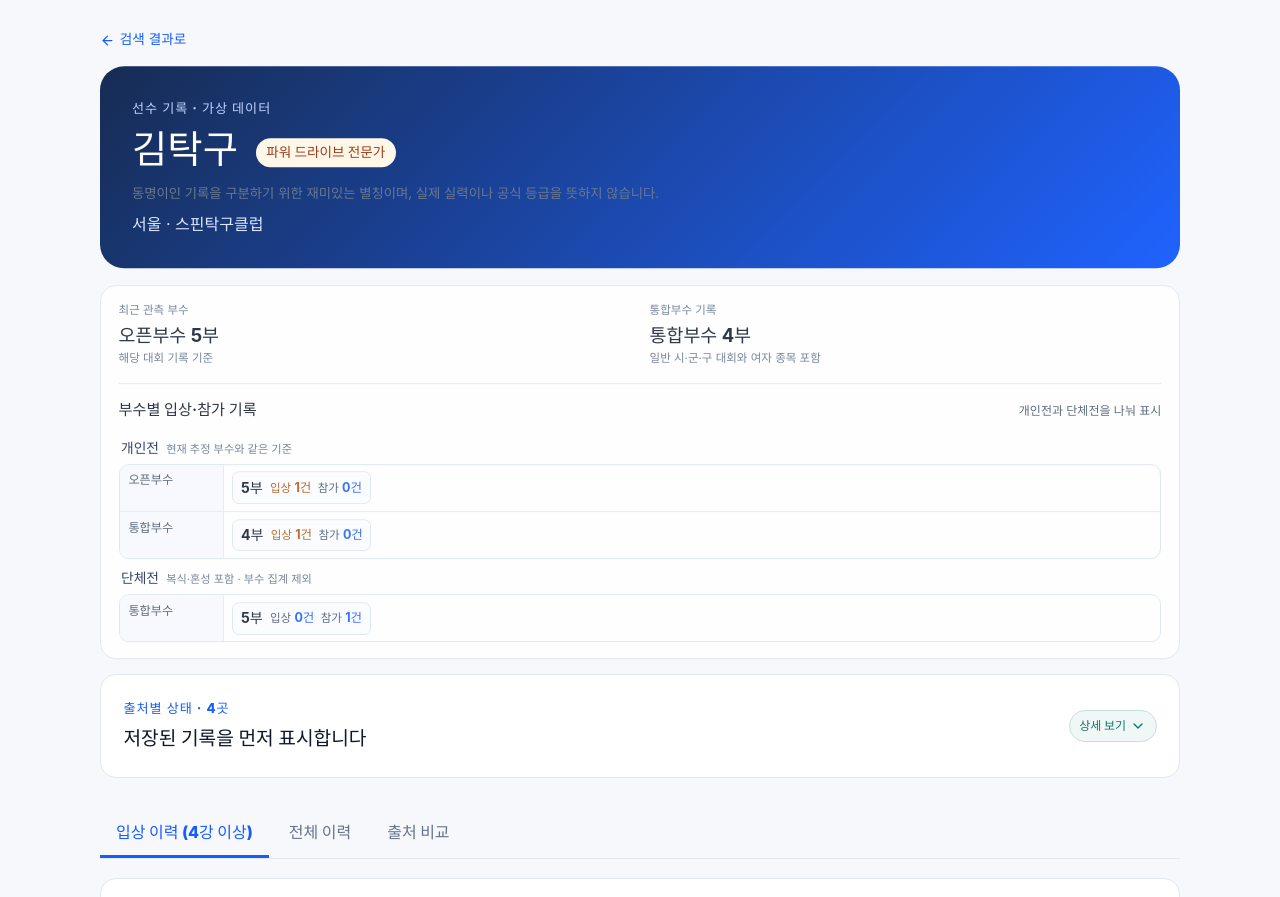
Test: PlayerDetailPage metadata › returns to every record when the division is cleared
Click the button with aria-label "개인전, 오픈부수 5부 입상 1건 참가 0건 결과 보기": (302,487) left=232, top=471, right=371, bottom=503
(page scrolled)
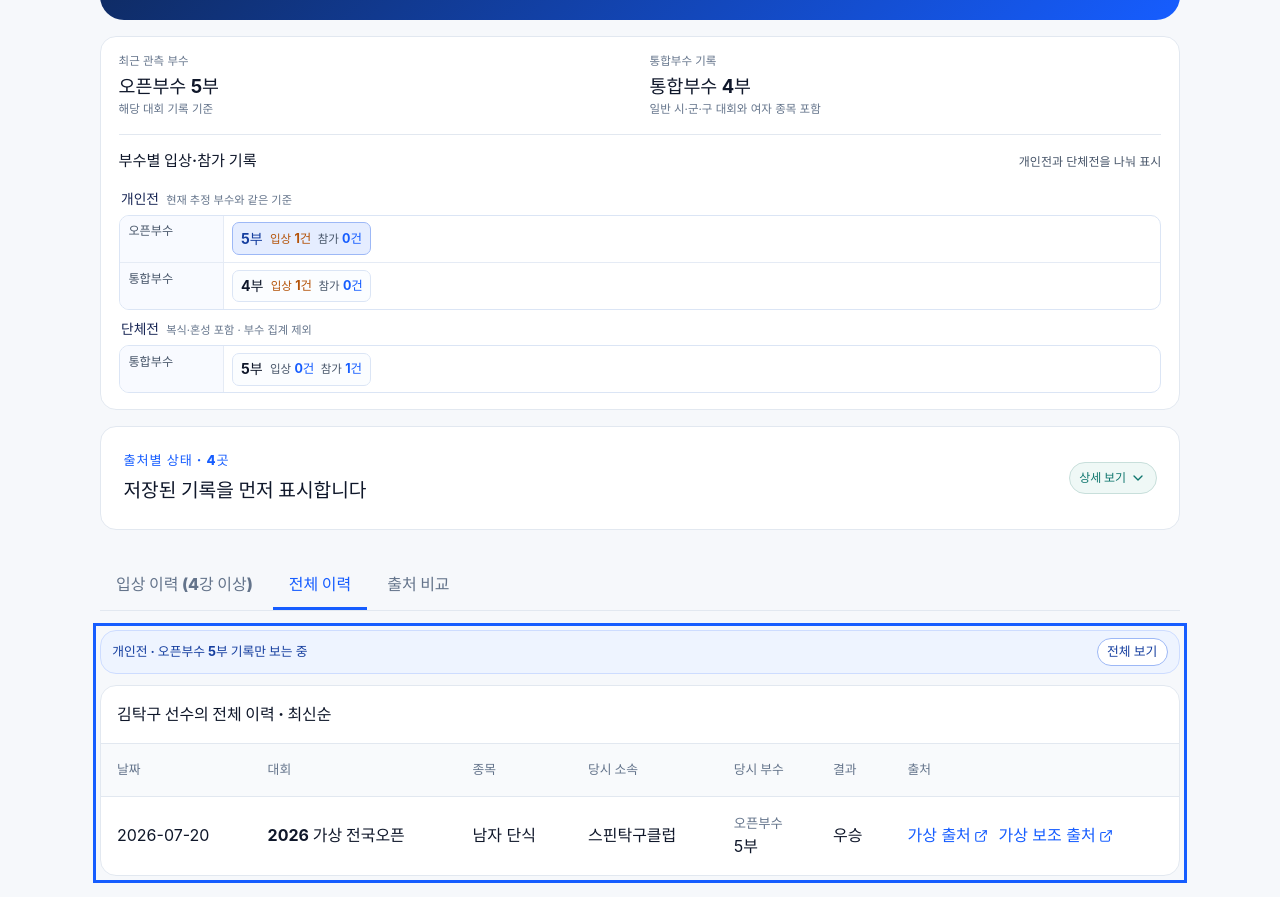
Click the button "전체 보기": (1132,652) left=1096, top=638, right=1168, bottom=666
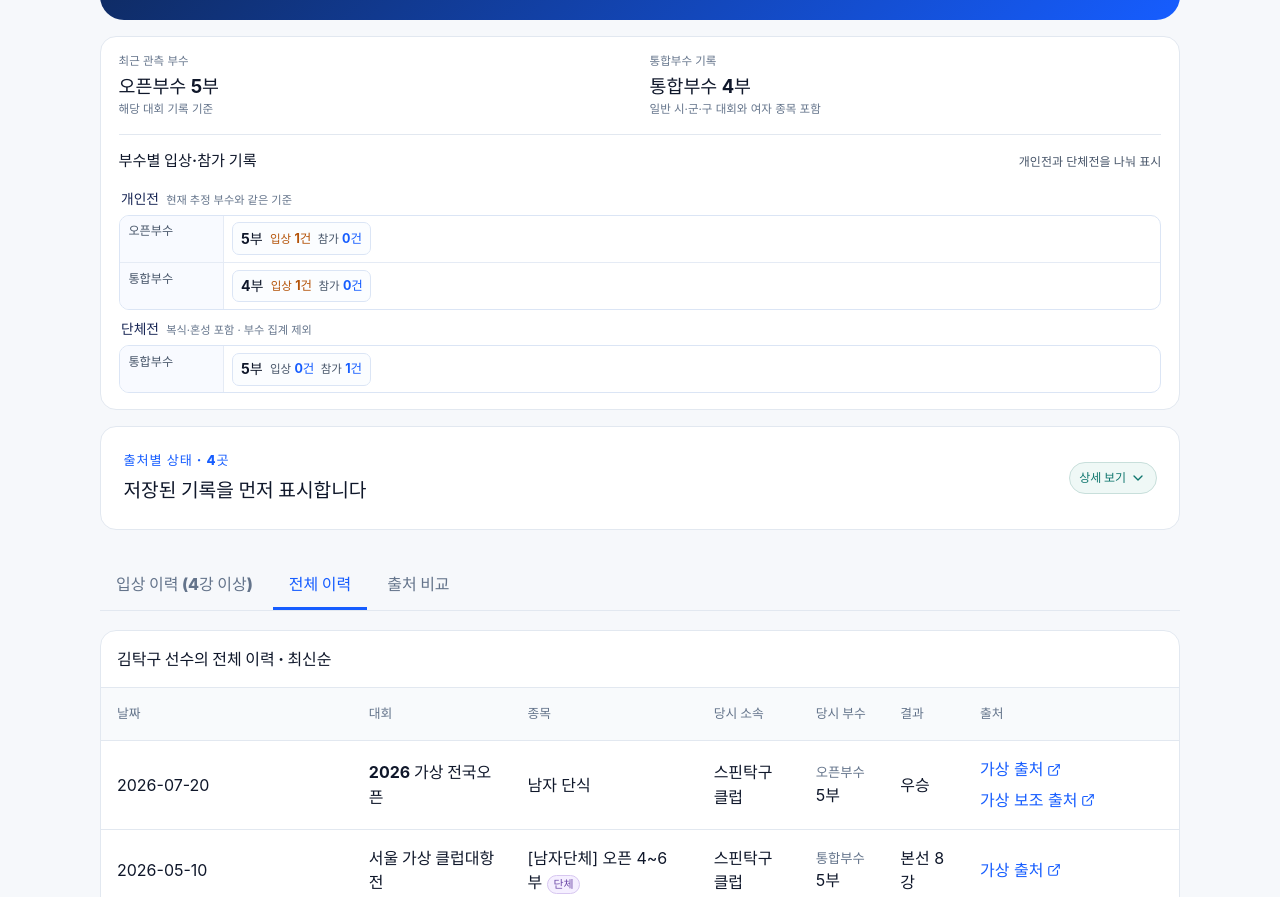
Now the text "기록만 보는 중" is gone
